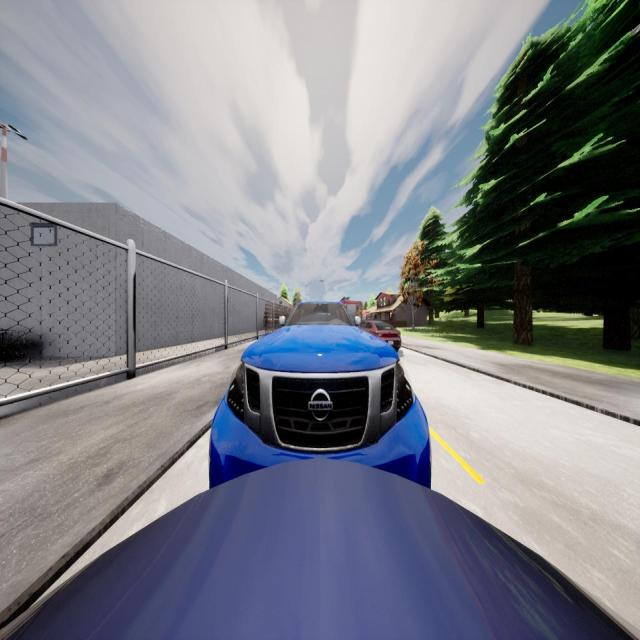Vehicle: (0, 460, 640, 640), (209, 301, 431, 487), (360, 322, 401, 351)
